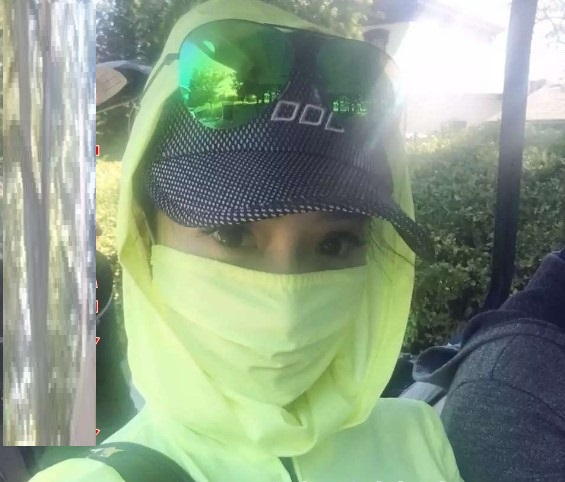face_mask: (158, 156, 387, 408)
